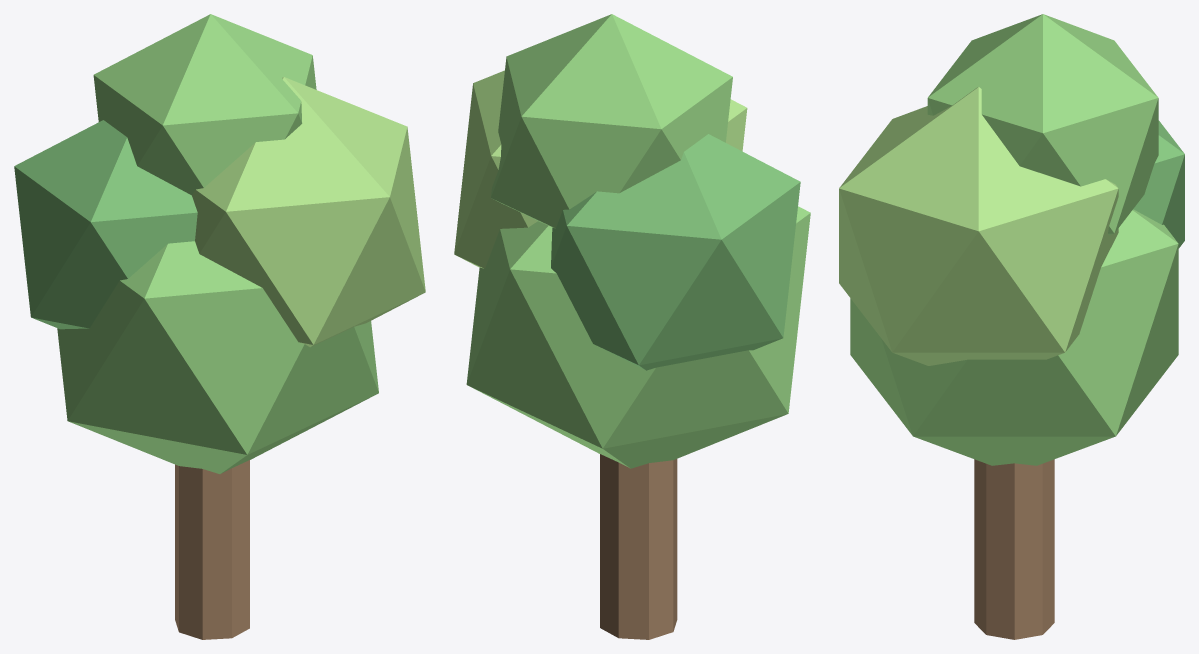
The model's file is tree_lowpoly.glb.
3 views of the same model, side by side, from view 1: azimuth 30°, elevation 25°; view 2: azimuth 150°, elevation 25°; view 3: azimuth 270°, elevation 25° (orthographic). The views are drawn at different scales.
Parts seen in each view (by area): view 1: Icosphere, Icosphere.002, Icosphere.003, Icosphere.001, Cylinder; view 2: Icosphere.001, Icosphere, Icosphere.003, Cylinder, Icosphere.002; view 3: Icosphere.002, Icosphere, Icosphere.003, Cylinder, Icosphere.001.
Part boxes in pixels (x1,y1,x2,y2): Icosphere: [57, 241, 378, 473]; Icosphere.002: [192, 77, 425, 347]; Icosphere.003: [93, 14, 316, 195]; Icosphere.001: [14, 120, 197, 329]; Cylinder: [175, 460, 249, 639]; Icosphere.001: [551, 134, 800, 370]; Icosphere: [466, 206, 810, 468]; Icosphere.003: [491, 14, 732, 228]; Cylinder: [600, 454, 677, 639]; Icosphere.002: [454, 70, 747, 268]; Icosphere.002: [839, 87, 1118, 365]; Icosphere: [850, 209, 1178, 465]; Icosphere.003: [927, 14, 1158, 235]; Cylinder: [974, 459, 1054, 639]; Icosphere.001: [1133, 120, 1184, 248].
Size of the model in its own units: 2.82 by 4.75 by 2.42.
